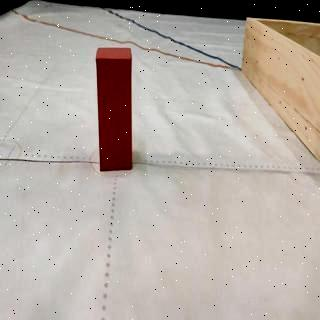redbox: (95, 48, 132, 172)
